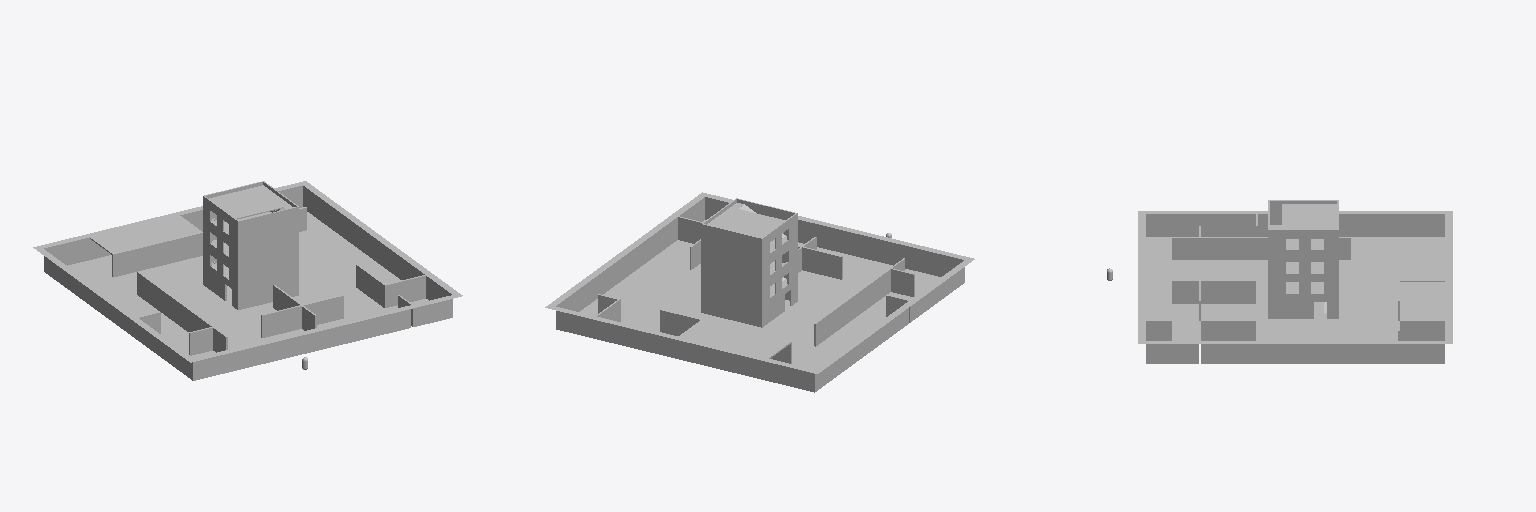
File: tower_1.obj
3 views of the same model, side by side, from view 1: azimuth 30°, elevation 25°; view 2: azimuth 150°, elevation 25°; view 3: azimuth 270°, elevation 25° (orthographic).
Parts seen in each view (by area): view 1: Cube; view 2: Cube; view 3: Cube.
Part boxes in pixels (x1,y1,x2,y2): Cube: (33,181,462,380); Cube: (545,192,974,392); Cube: (1138,200,1452,363).
Size of the model in its own units: 50 by 15.55 by 54.98.